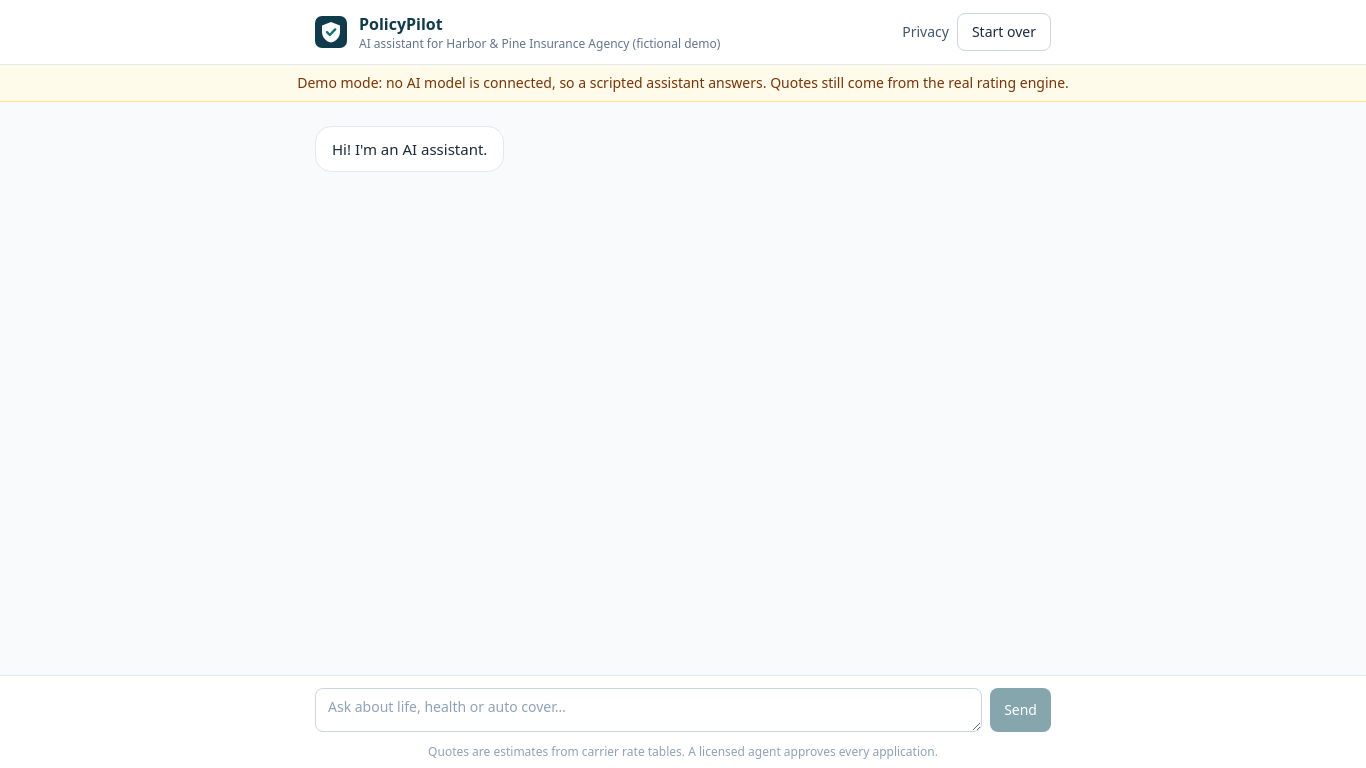
it: ChatPage › starts a session, sends a turn and shows the stored reply with its quote card
Expected: the text "Hi! I'm an AI assistant." is shown, [332, 137, 487, 161]
Expected: the text "Demo mode" is shown, [297, 73, 1069, 92]
Type "life cover for a 40-year-old" into the text box named "Your message".
click(649, 710); type("life cover for a 40-year-old")  # box [315, 688, 982, 732]
Then press Enter
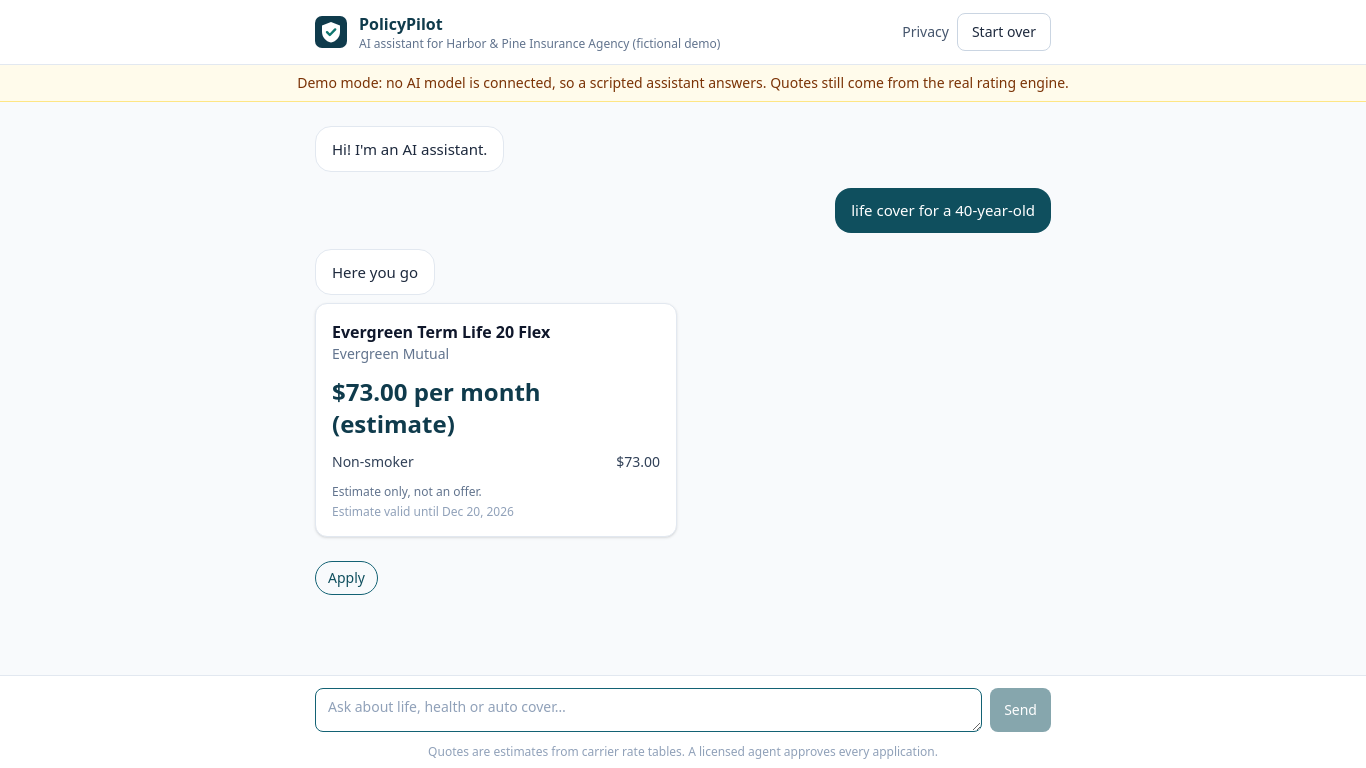
Expected: the text with test id "quote-price" reads "$73.00 per month (estimate)", [332, 375, 541, 440]
Expected: the button "Apply" is shown, [315, 561, 378, 595]
